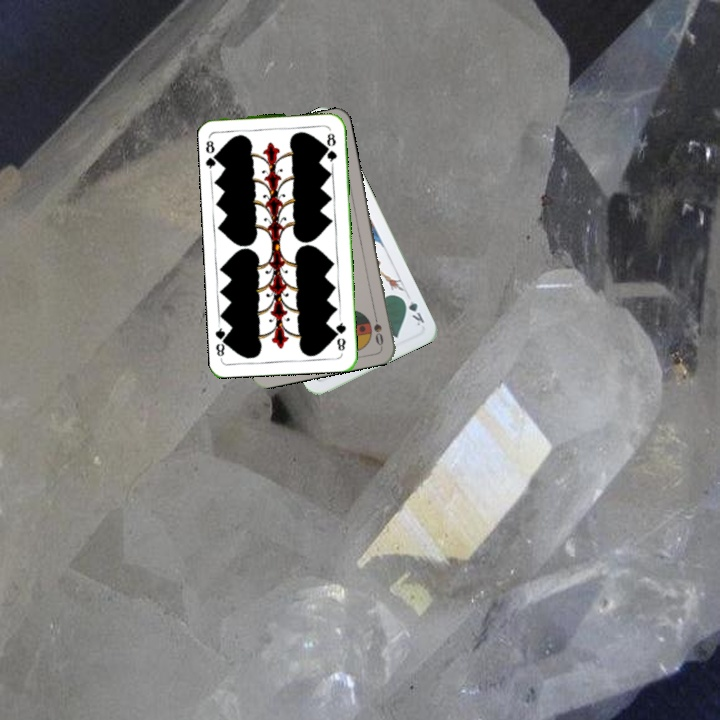G8: (202, 132, 222, 173), (332, 315, 348, 353)
GK: (398, 293, 427, 328)
SO: (369, 308, 386, 348)
